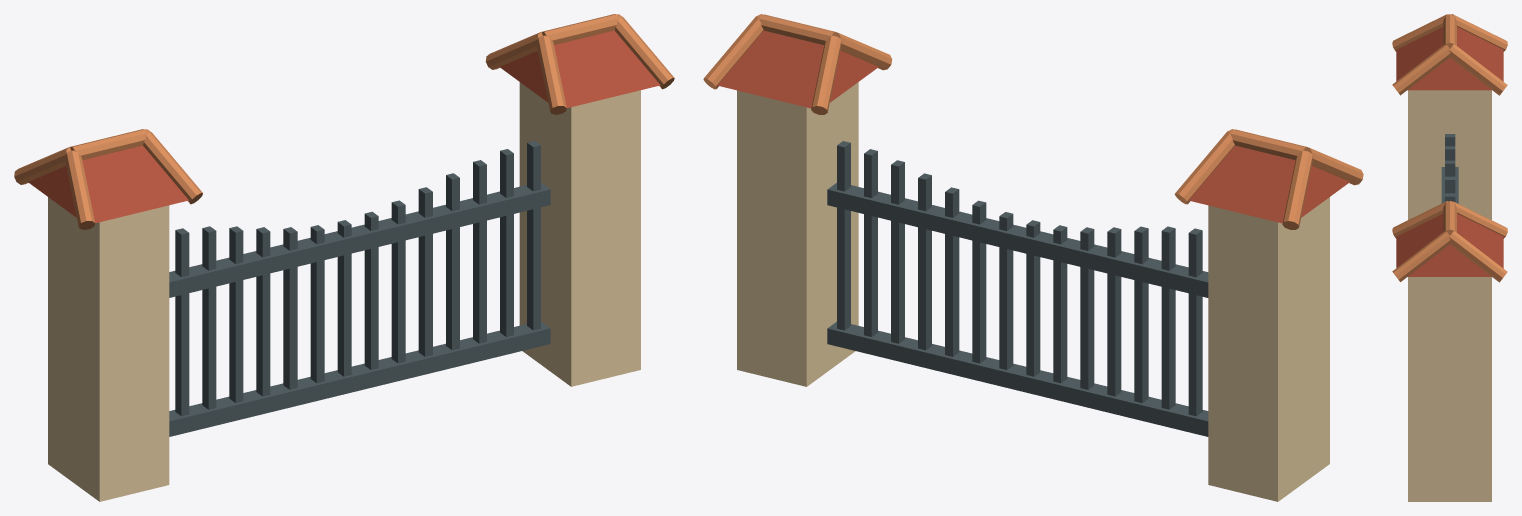
The model's file is 093_courtyard_iron_gate.glb.
3 renders of one model, left to right at view 1: azimuth 30°, elevation 25°; view 2: azimuth 150°, elevation 25°; view 3: azimuth 270°, elevation 25°, orthographic. The views are drawn at different scales.
Parts seen in each view (by area): view 1: Courtyard iron gate; view 2: Courtyard iron gate; view 3: Courtyard iron gate.
Boxes of the visible parts, x1,y1,x2,y2 form: Courtyard iron gate: (14, 14, 674, 501); Courtyard iron gate: (703, 14, 1363, 501); Courtyard iron gate: (1392, 14, 1507, 501).
Bounding box in the file's own units: 3.59 × 1.93 × 0.7432.
